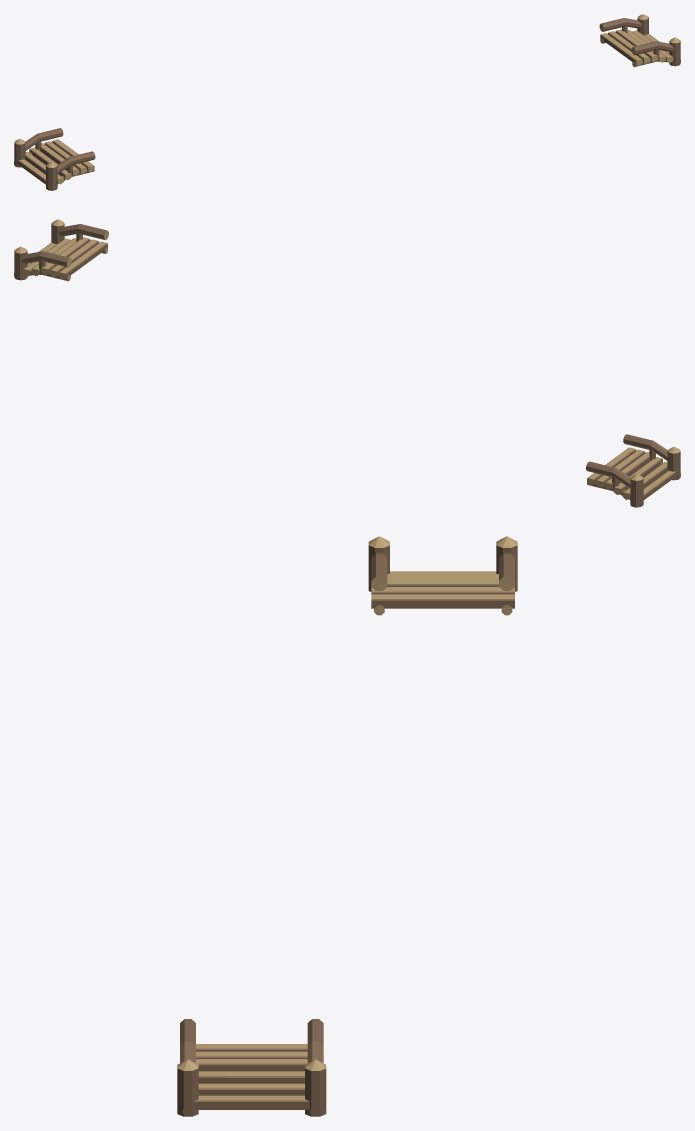
Rendered from BridgeEnd.fbx.
3 renders of one model, top to bottom at view 1: azimuth 30°, elevation 25°; view 2: azimuth 150°, elevation 25°; view 3: azimuth 270°, elevation 25°, orthographic. The views are drawn at different scales.
Parts seen in each view (by area): view 1: mergedBlocks; view 2: mergedBlocks; view 3: mergedBlocks.
Boxes of the visible parts, box(x1,y1,x2,y2) form: mergedBlocks: box(14, 14, 680, 190); mergedBlocks: box(14, 219, 680, 507); mergedBlocks: box(177, 536, 517, 1116).
Bounding box in the file's own units: 254 × 19.01 × 64.
